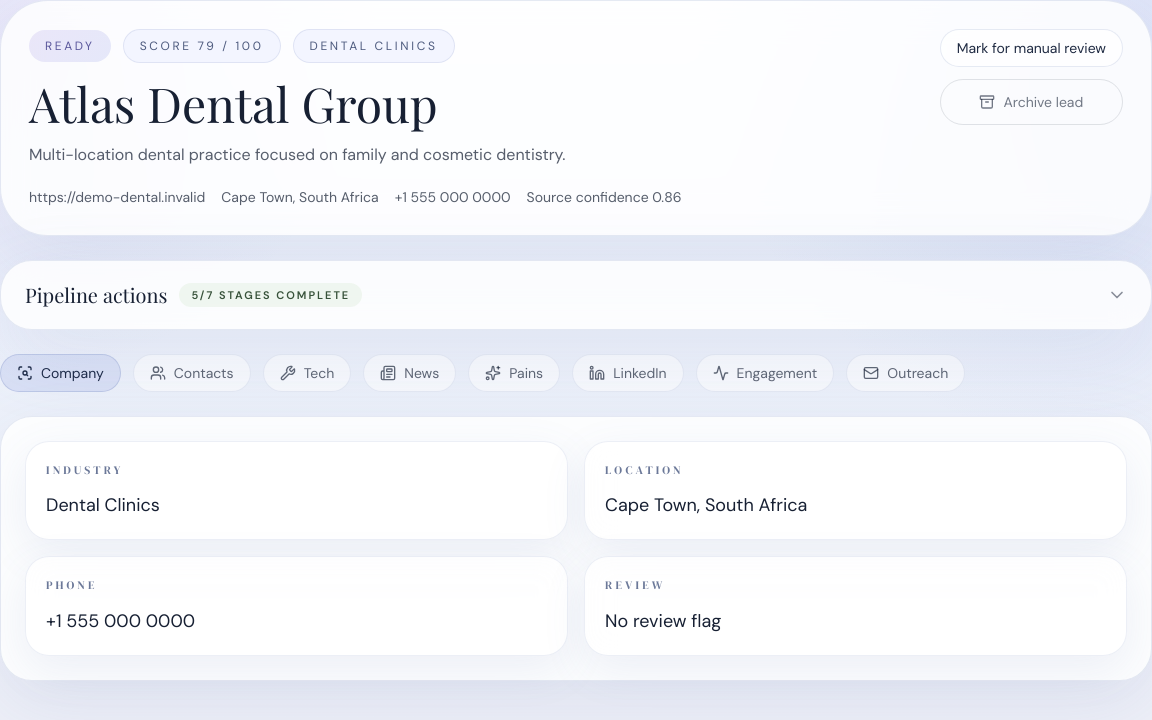
Test case: LeadDetailView › shows manual linkedin tasks with lookup-needed status
The width and height of the screenshot is (1152, 720).
Click the button "LinkedIn" at (628, 373), box [572, 354, 684, 392]
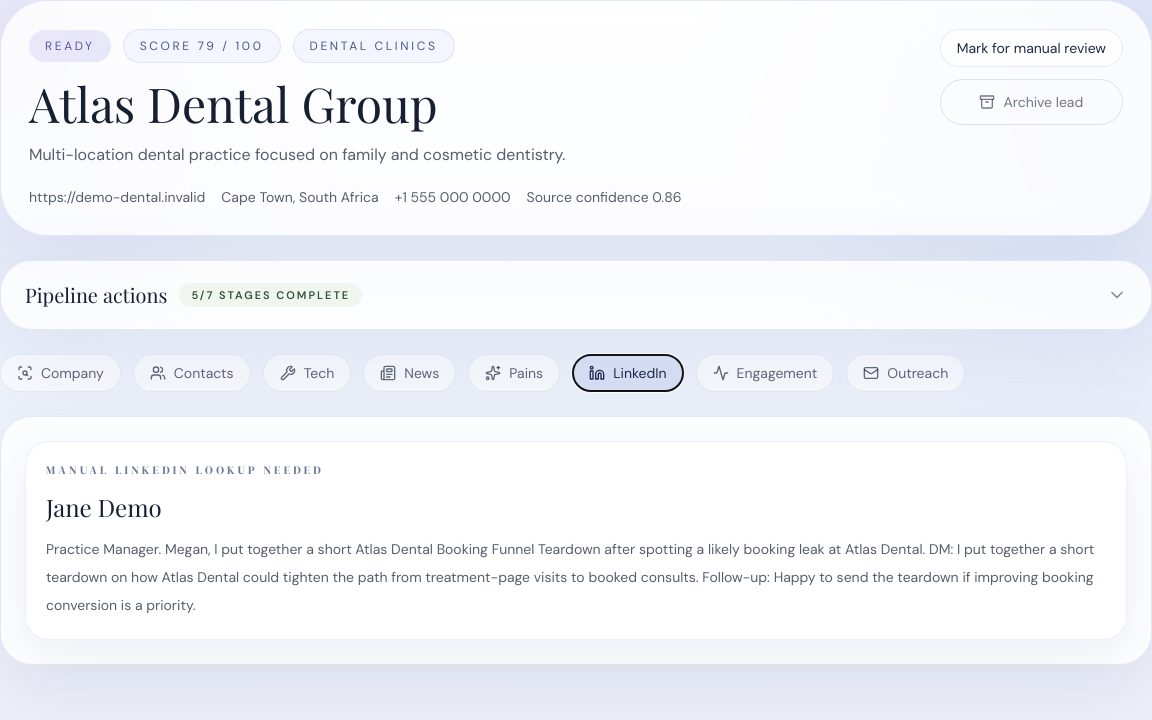
expect the text "Manual LinkedIn lookup needed" is shown: met, box [46, 462, 324, 478]
expect the text "treatment-page visits to booked consults" is shown: met, box [46, 540, 1094, 614]
